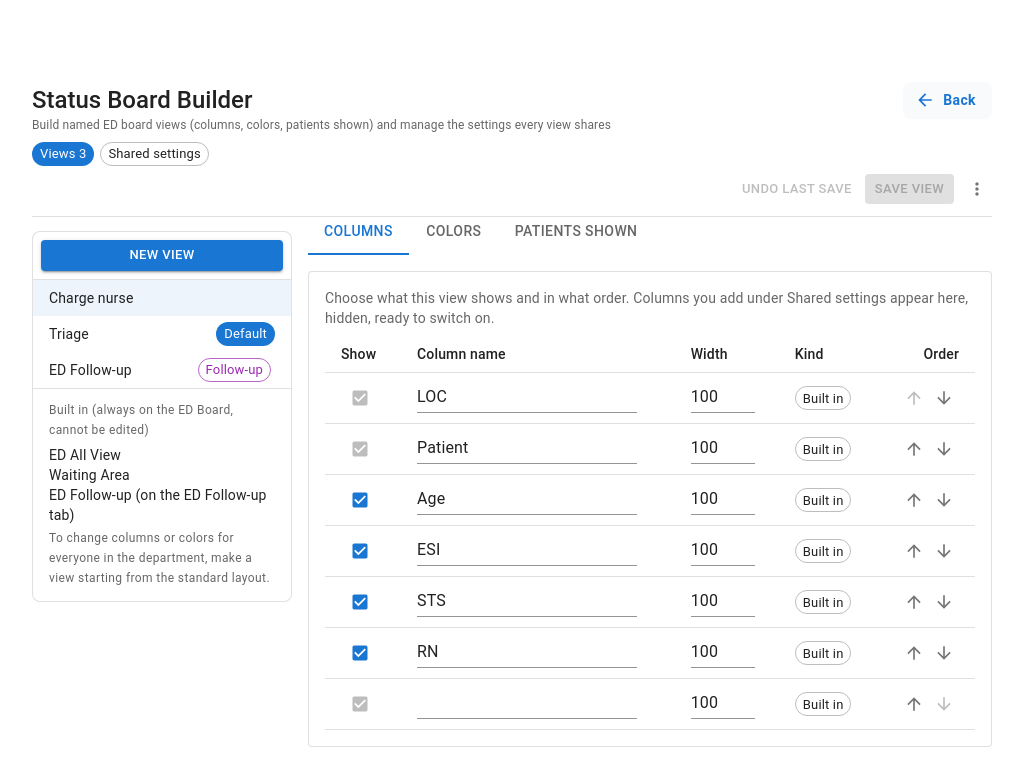
Test: follow-up views › the Columns tab offers Discharged and New results and only pins the patient
The width and height of the screenshot is (1024, 768).
Expected: the button with test id "view-item-1" is shown, [33,280,291,316]
Click the button with test id "view-item-3". click: coordinates (90, 370)
box: [33,352,291,388]
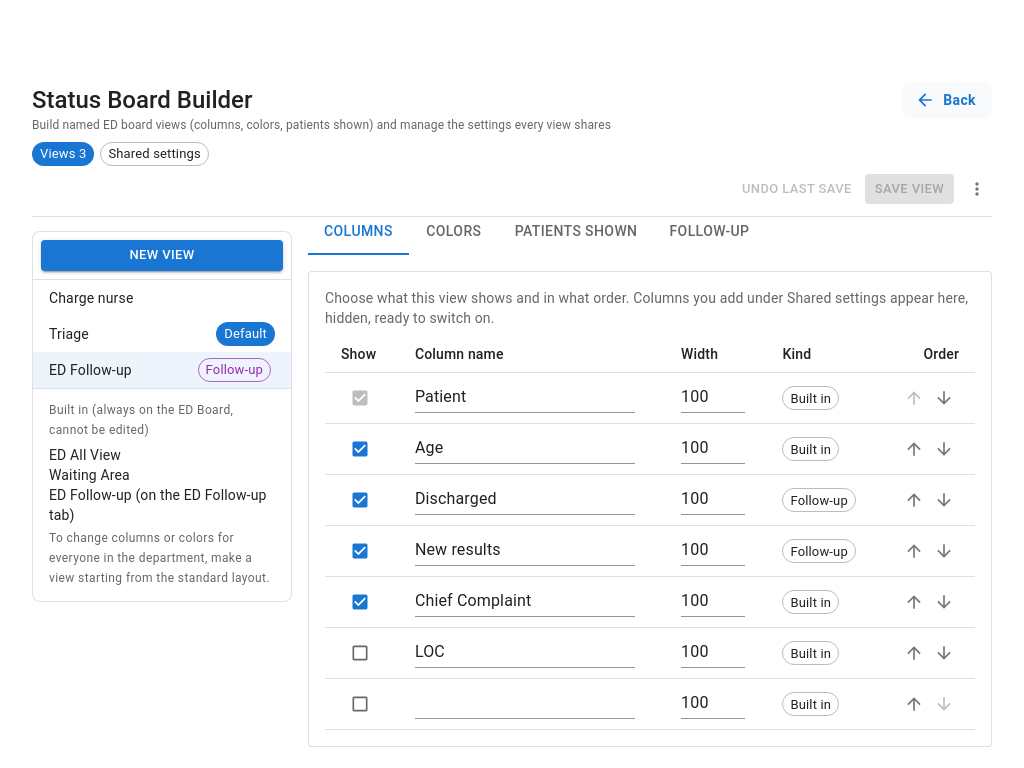
Expected: the checkbox named "Show Patient" is disabled, [350,388,370,408]
Now the row with test id "col-row-discharged" reads "Follow-up", box [790,493,848,508]
Now the checkbox named "Show LOC" is enabled, box [350,643,370,663]
